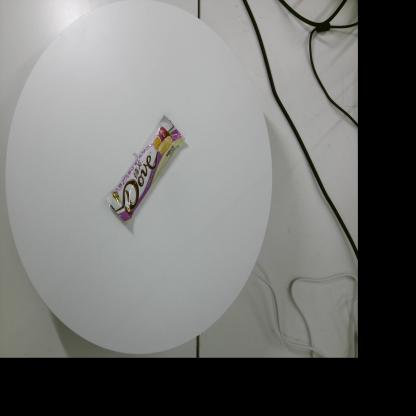Chocolate: (106, 114, 186, 224)
